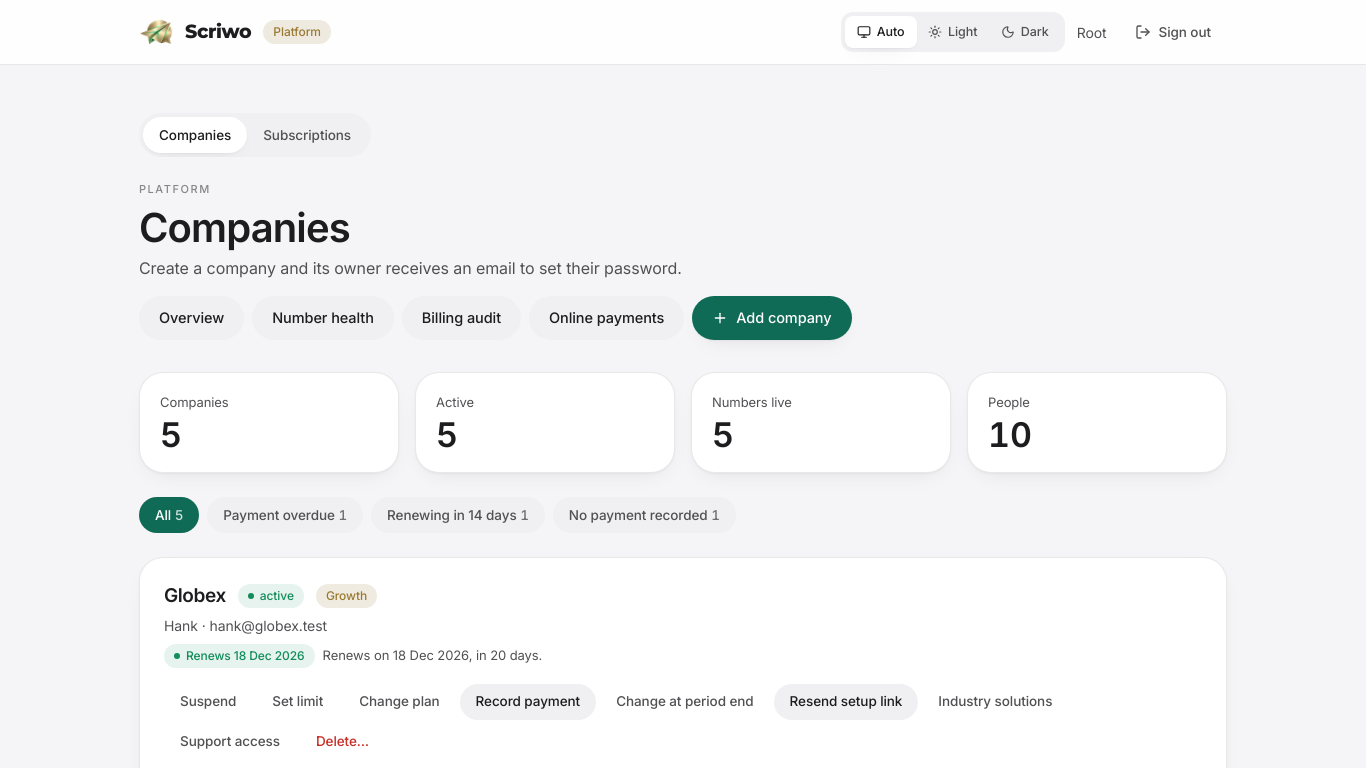
Test: the platform admin's subscriptions › counts who is overdue, who renews soon and who has no payment, and filters to them
expect the heading "Globex" is shown: met, box 164,582 -> 226,610
expect the button "Renewing in 14 days 1" is shown: met, box 371,497 -> 545,533
Click the button "Payment overdue 1" at (285, 515), box 207,497 -> 363,533
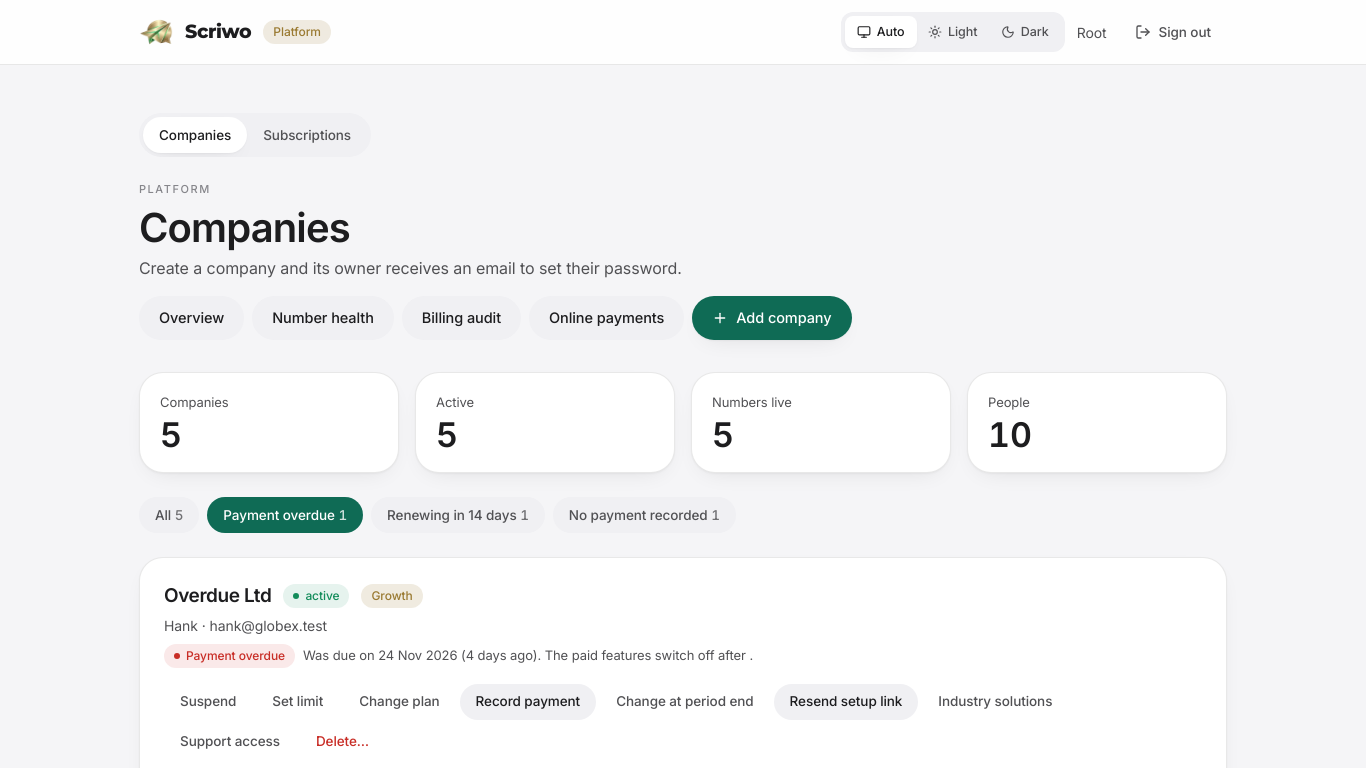
expect the heading "Overdue Ltd" is shown: met, box 164,582 -> 271,610
expect the button "Payment overdue 1" is pressed: met, box 207,497 -> 363,533
Click the button "All 5" at (169, 515), box 139,497 -> 199,533
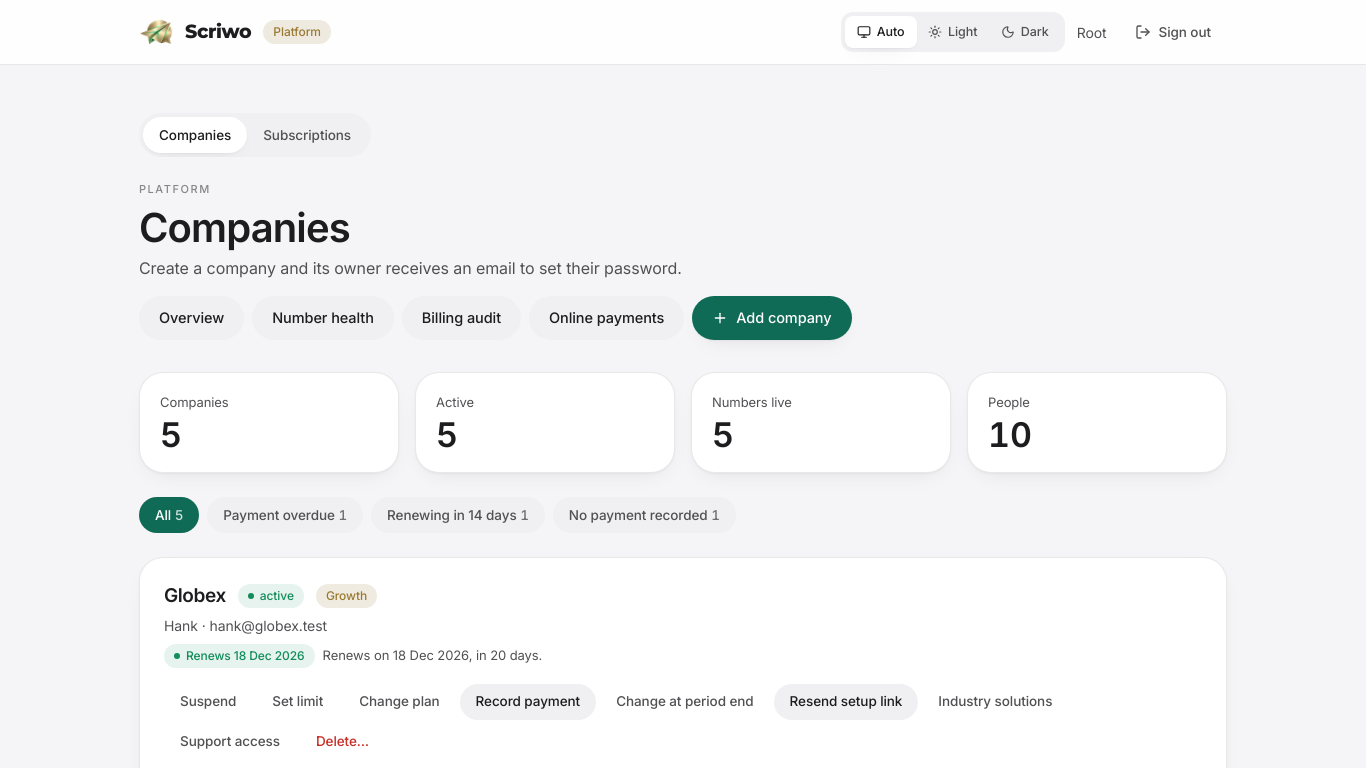
expect the heading "Globex" is shown: met, box 164,582 -> 226,610
